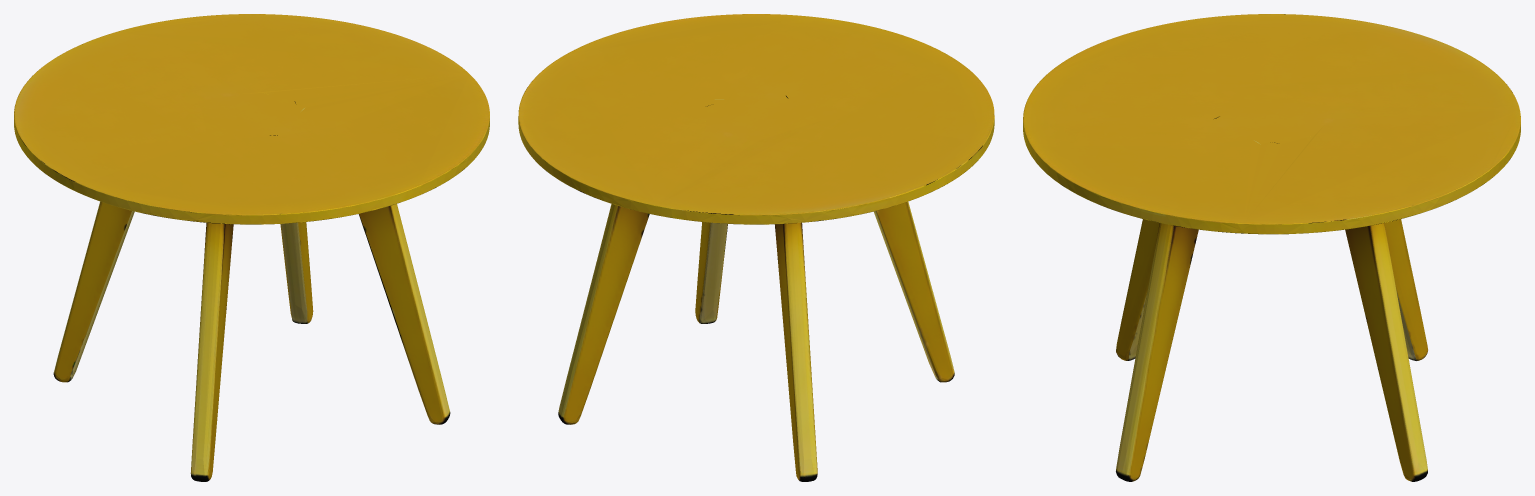
The model's file is edited_mesh.glb.
3 renders of one model, left to right at view 1: azimuth 30°, elevation 25°; view 2: azimuth 150°, elevation 25°; view 3: azimuth 270°, elevation 25°, orthographic. The views are drawn at different scales.
Visible parts, largest first — view 1: solid_001_wire; view 2: solid_001_wire; view 3: solid_001_wire.
Boxes of the visible parts, x1,y1,x2,y2 form: solid_001_wire: (14, 14, 489, 481); solid_001_wire: (518, 14, 994, 481); solid_001_wire: (1023, 14, 1520, 481).
Size of the model in its own units: 1.72 by 1.14 by 1.72.
1 material, 1 textured.
